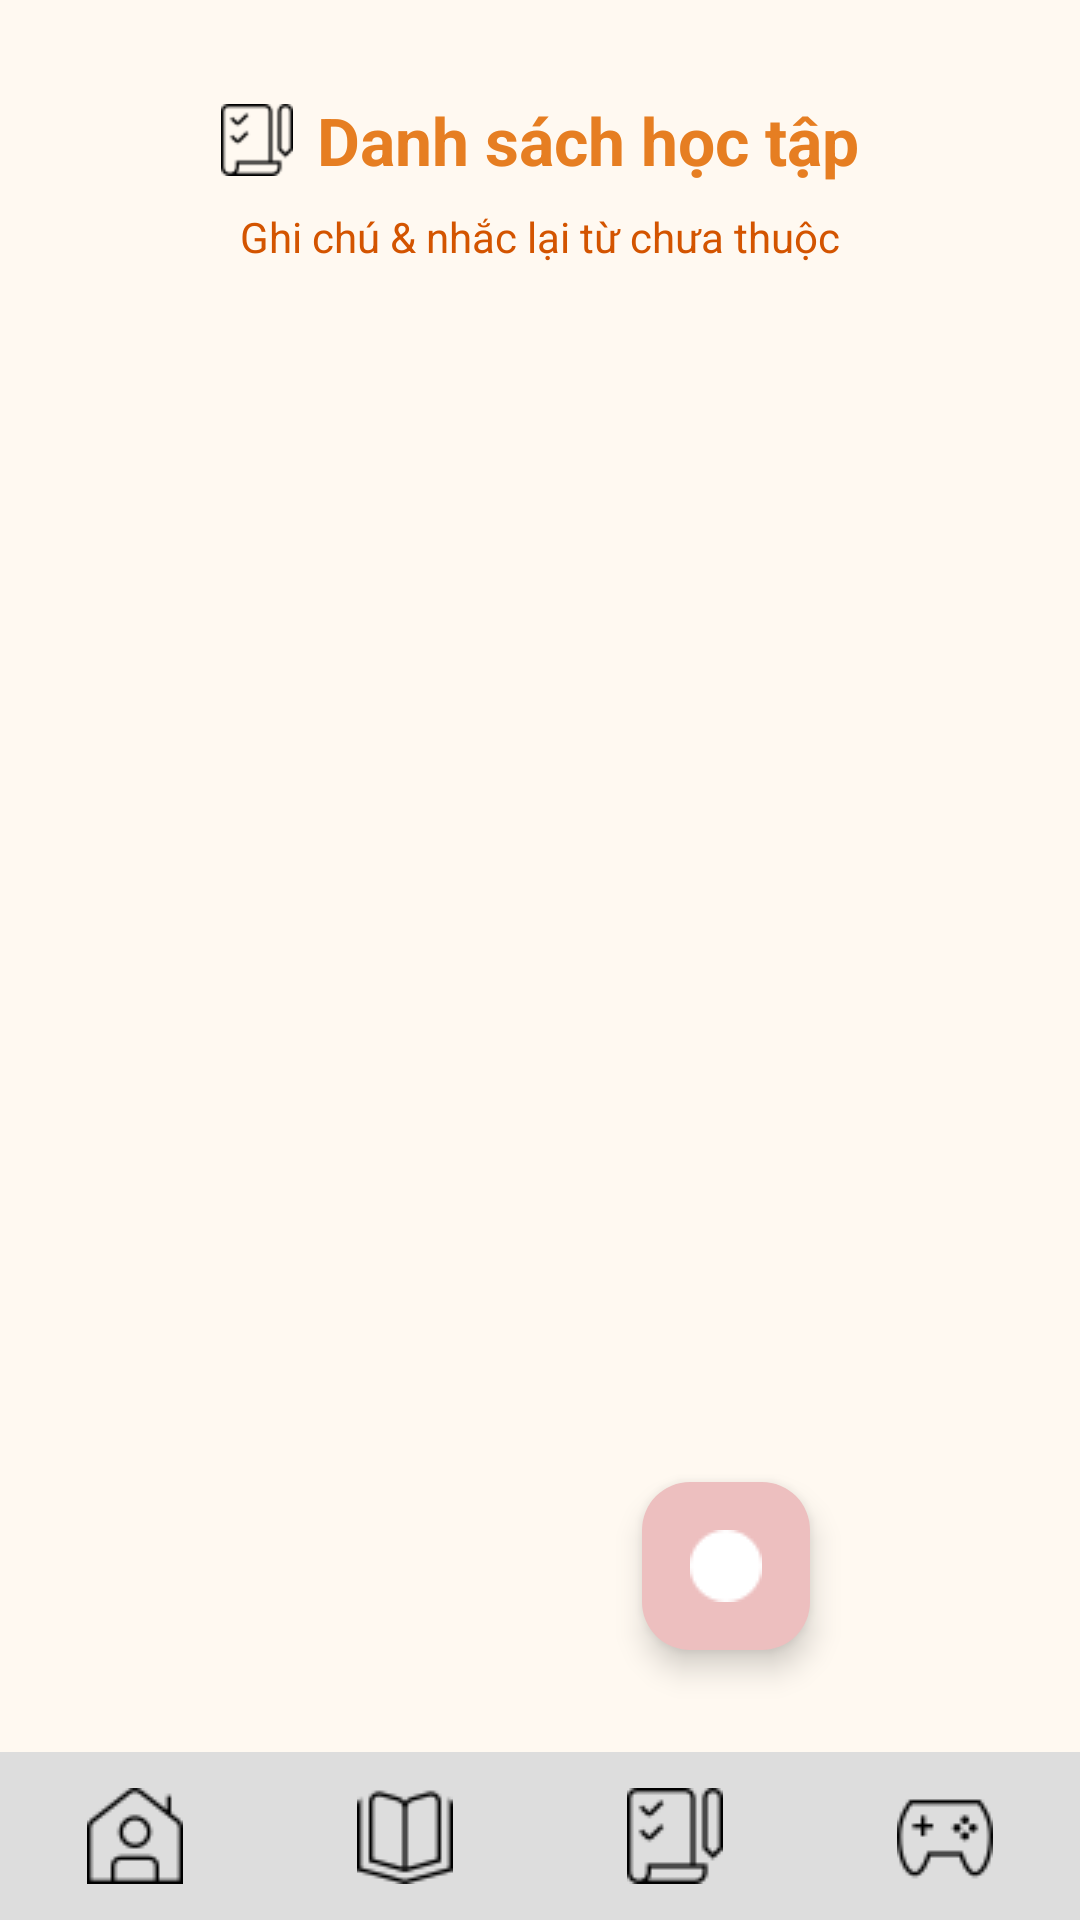

Named icons in this screenshot (1080px x 1920px) and their centers, point (x, y):
checklist: point (257, 140), point (675, 1836)
Game: point (945, 1838)
Home: point (135, 1836)
Học từ vựng: point (405, 1837)
